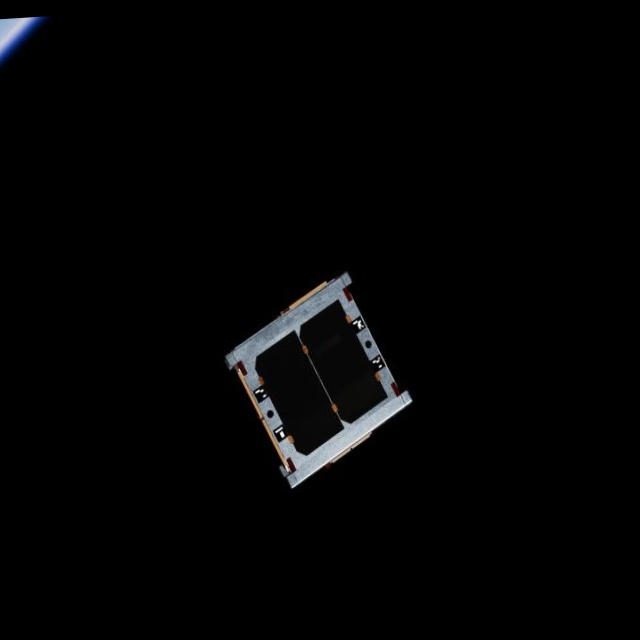satellite: (215, 263, 419, 495)
